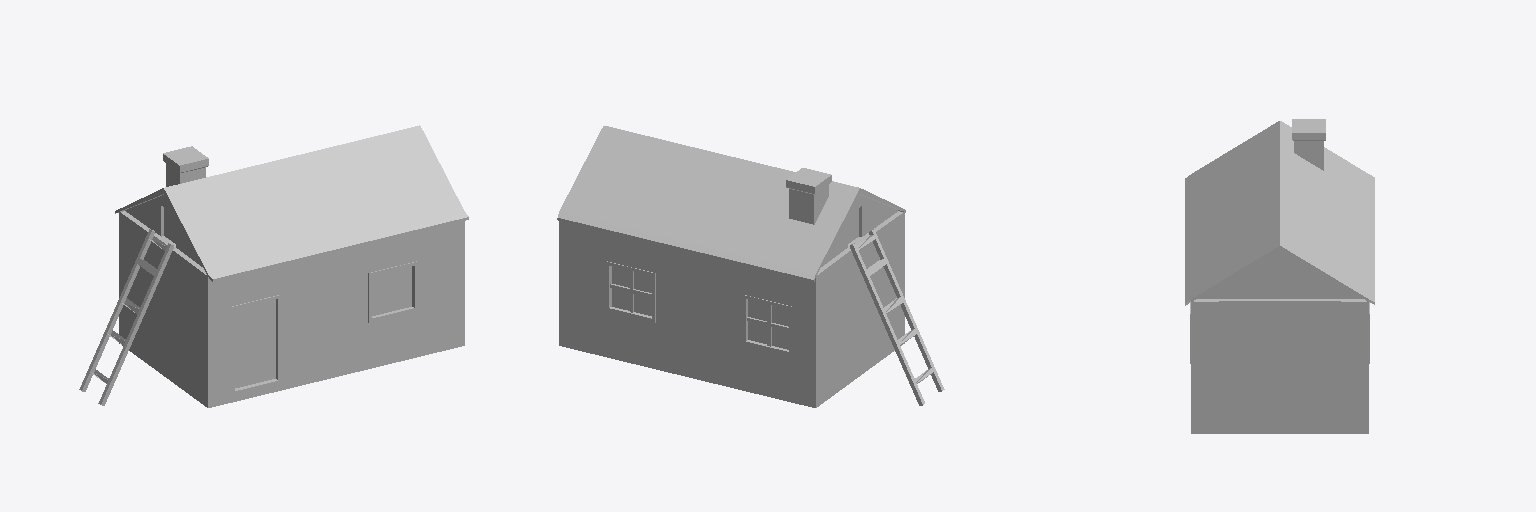
File: house.obj
3 views of the same model, side by side, from view 1: azimuth 30°, elevation 25°; view 2: azimuth 150°, elevation 25°; view 3: azimuth 270°, elevation 25° (orthographic).
Visible parts, largest first — view 1: Cube; view 2: Cube; view 3: Cube.
Part boxes in pixels (bbox=[...]): Cube: bbox=[79, 125, 468, 407]; Cube: bbox=[557, 126, 944, 407]; Cube: bbox=[1185, 119, 1374, 433].
Bounding box in the file's own units: 12.93 × 7.67 × 6.39.